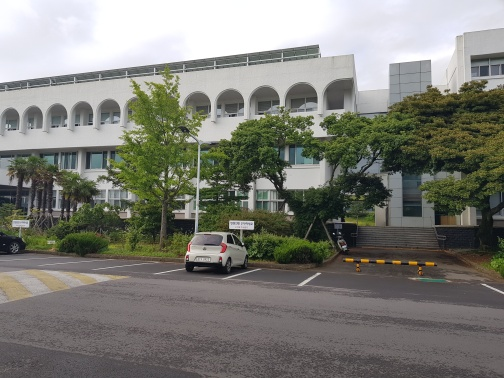Main Building of University: (5, 31, 495, 247), (382, 50, 448, 231), (209, 79, 320, 123), (20, 96, 123, 135)
